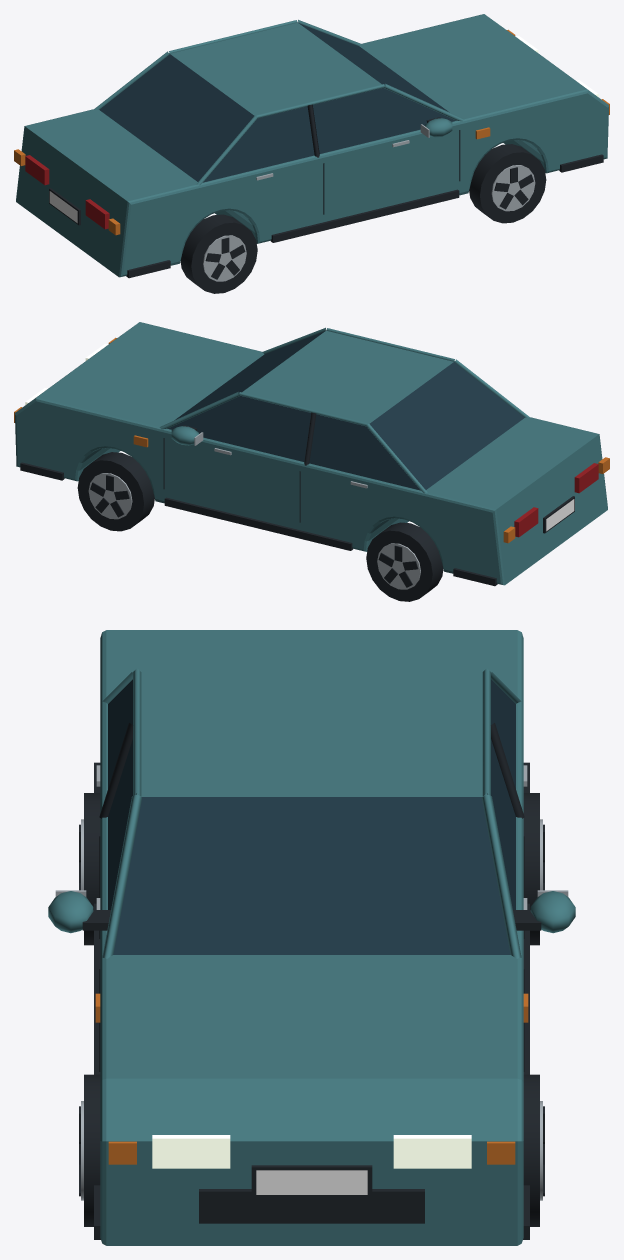
The model's file is sedan-near.glb.
3 renders of one model, top to bottom at view 1: azimuth 30°, elevation 25°; view 2: azimuth 150°, elevation 25°; view 3: azimuth 270°, elevation 25°, orthographic. The views are drawn at different scales.
Parts seen in each view (by area): view 1: body_paint, body_glass, wheel_surface (×2), body_trim, body_brake; view 2: body_paint, body_glass, wheel_surface (×2), body_trim, body_brake; view 3: body_paint, body_glass, body_trim, wheel_surface (×4), body_headlamp, registration_text, body_indicator_left, body_indicator_right.
Part boxes in pixels (x1,y1,x2,y2): body_paint: (16, 14, 608, 277); body_glass: (99, 22, 456, 182); wheel_surface (×2): (180, 144, 546, 293); body_trim: (49, 104, 603, 278); body_brake: (25, 155, 109, 229); body_paint: (15, 322, 607, 585); body_glass: (167, 330, 524, 490); wheel_surface (×2): (77, 452, 443, 601); body_trim: (20, 412, 574, 586); body_brake: (514, 463, 598, 537); body_paint: (48, 630, 575, 1245); body_glass: (108, 679, 515, 954); body_trim: (82, 723, 541, 1239); wheel_surface (×4): (79, 793, 544, 1226); body_headlamp: (152, 1135, 471, 1168); registration_text: (256, 1170, 367, 1194); body_indicator_left: (487, 993, 528, 1164); body_indicator_right: (95, 993, 136, 1164).
Bounding box in the file's own units: 4.85 × 1.47 × 2.23.
